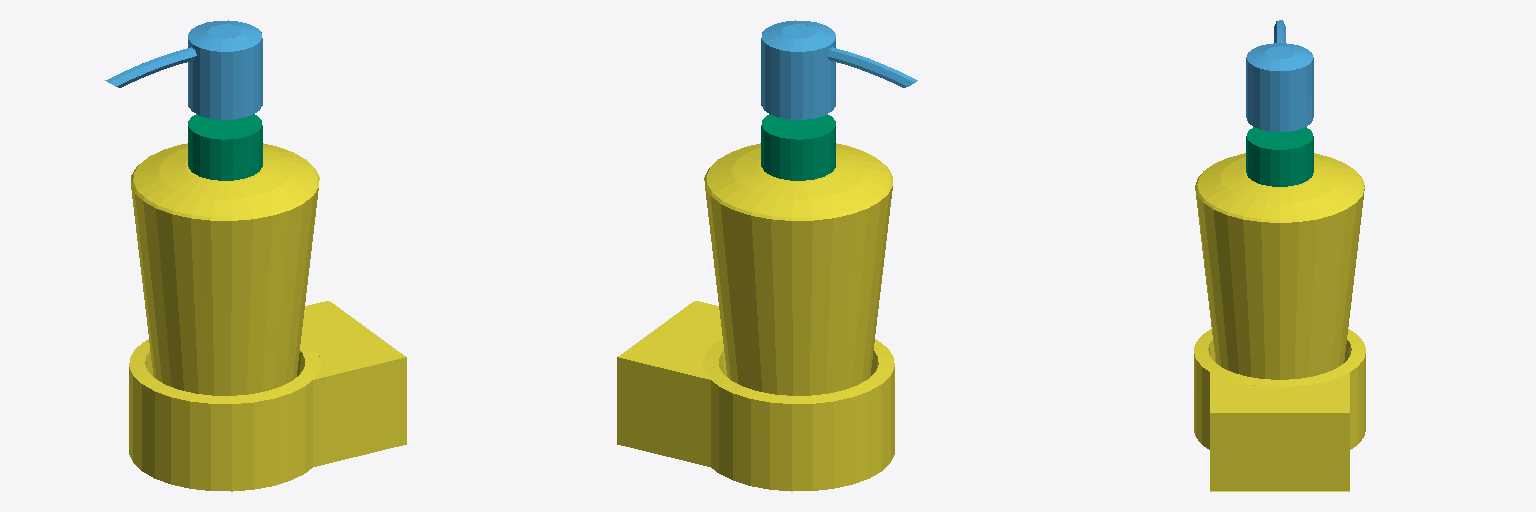
URDF robot description (partnet_e6676d26-1fb8-4e3b-a013-5a1d52decc9b):
<?xml version="1.0" ?>
<robot name="partnet_e6676d26-1fb8-4e3b-a013-5a1d52decc9b">
	<link name="base"/>
	<link name="link_0">
		<visual name="pressing_lid-1">
			<origin xyz="0.0023859999999999992 0 -0.054397"/>
			<geometry>
				<mesh filename="textured_objs/original-3.obj"/>
			</geometry>
		</visual>
		<visual name="pressing_lid-1">
			<origin xyz="0.0023859999999999992 0 -0.054397"/>
			<geometry>
				<mesh filename="textured_objs/original-4.obj"/>
			</geometry>
		</visual>
		<collision>
			<origin xyz="0.0023859999999999992 0 -0.054397"/>
			<geometry>
				<mesh filename="textured_objs/original-3.obj"/>
			</geometry>
		</collision>
		<collision>
			<origin xyz="0.0023859999999999992 0 -0.054397"/>
			<geometry>
				<mesh filename="textured_objs/original-4.obj"/>
			</geometry>
		</collision>
	</link>
	<joint name="joint_0" type="continuous">
		<origin xyz="0.0 0 0.0"/>
		<axis xyz="0 1 0"/>
		<child link="link_0"/>
		<parent link="link_0_helper"/>
	</joint>
	<link name="link_1">
		<visual name="head-3">
			<origin xyz="0.002386499999999986 0 -0.054397500000000015"/>
			<geometry>
				<mesh filename="textured_objs/original-6.obj"/>
			</geometry>
		</visual>
		<visual name="head-3">
			<origin xyz="0.002386499999999986 0 -0.054397500000000015"/>
			<geometry>
				<mesh filename="textured_objs/original-5.obj"/>
			</geometry>
		</visual>
		<collision>
			<origin xyz="0.002386499999999986 0 -0.054397500000000015"/>
			<geometry>
				<mesh filename="textured_objs/original-6.obj"/>
			</geometry>
		</collision>
		<collision>
			<origin xyz="0.002386499999999986 0 -0.054397500000000015"/>
			<geometry>
				<mesh filename="textured_objs/original-5.obj"/>
			</geometry>
		</collision>
	</link>
	<joint name="joint_1" type="continuous">
		<origin xyz="0.0 0 0.0"/>
		<axis xyz="0 -1 0"/>
		<child link="link_1"/>
		<parent link="link_1_helper"/>
	</joint>
	<link name="link_2">
		<visual name="base_body-4">
			<origin xyz="0 0 0"/>
			<geometry>
				<mesh filename="textured_objs/original-8.obj"/>
			</geometry>
		</visual>
		<visual name="base_body-4">
			<origin xyz="0 0 0"/>
			<geometry>
				<mesh filename="textured_objs/original-9.obj"/>
			</geometry>
		</visual>
		<visual name="base_body-4">
			<origin xyz="0 0 0"/>
			<geometry>
				<mesh filename="textured_objs/original-7.obj"/>
			</geometry>
		</visual>
		<visual name="base_body-4">
			<origin xyz="0 0 0"/>
			<geometry>
				<mesh filename="textured_objs/original-1.obj"/>
			</geometry>
		</visual>
		<visual name="base_body-4">
			<origin xyz="0 0 0"/>
			<geometry>
				<mesh filename="textured_objs/original-10.obj"/>
			</geometry>
		</visual>
		<collision>
			<origin xyz="0 0 0"/>
			<geometry>
				<mesh filename="textured_objs/original-8.obj"/>
			</geometry>
		</collision>
		<collision>
			<origin xyz="0 0 0"/>
			<geometry>
				<mesh filename="textured_objs/original-9.obj"/>
			</geometry>
		</collision>
		<collision>
			<origin xyz="0 0 0"/>
			<geometry>
				<mesh filename="textured_objs/original-7.obj"/>
			</geometry>
		</collision>
		<collision>
			<origin xyz="0 0 0"/>
			<geometry>
				<mesh filename="textured_objs/original-1.obj"/>
			</geometry>
		</collision>
		<collision>
			<origin xyz="0 0 0"/>
			<geometry>
				<mesh filename="textured_objs/original-10.obj"/>
			</geometry>
		</collision>
	</link>
	<joint name="joint_2" type="fixed">
		<origin rpy="1.570796326794897 0 -1.570796326794897" xyz="0 0 0"/>
		<child link="link_2"/>
		<parent link="base"/>
	</joint>
	<link name="link_0_helper"/>
	<joint name="joint_3" type="prismatic">
		<origin xyz="4.999999999866223e-07 0 -5.000000000143778e-07"/>
		<axis xyz="0 -1 0"/>
		<child link="link_0_helper"/>
		<parent link="link_1"/>
		<limit lower="0" upper="0.07"/>
	</joint>
	<link name="link_1_helper"/>
	<joint name="joint_4" type="prismatic">
		<origin xyz="-0.002386499999999986 0 0.054397500000000015"/>
		<axis xyz="0 1 0"/>
		<child link="link_1_helper"/>
		<parent link="link_2"/>
		<limit lower="0" upper="0.036"/>
	</joint>
</robot>

--- Facts derived from the render (not from the file) ---
3 views of the same robot in one strip: view 1: azimuth 30°, elevation 25°; view 2: azimuth 150°, elevation 25°; view 3: azimuth 270°, elevation 25° (orthographic).
Model partnet_e6676d26-1fb8-4e3b-a013-5a1d52decc9b with 6 links and 5 joints (2 continuous, 2 prismatic, 1 fixed), rooted at base, posed every joint at zero.
Links seen in each view (by area): view 1: link_2, link_0, link_1; view 2: link_2, link_0, link_1; view 3: link_2, link_0, link_1.
Link boxes in pixels (x1=…): link_2: x1=129, y1=143, x2=406, y2=491; link_0: x1=105, y1=20, x2=262, y2=119; link_1: x1=188, y1=114, x2=262, y2=180; link_2: x1=617, y1=143, x2=894, y2=491; link_0: x1=761, y1=20, x2=917, y2=119; link_1: x1=761, y1=114, x2=835, y2=180; link_2: x1=1194, y1=153, x2=1365, y2=491; link_0: x1=1246, y1=20, x2=1313, y2=131; link_1: x1=1246, y1=127, x2=1313, y2=186.
Bounding box of the posed robot: 0.9583 × 0.6134 × 1.47 m (x, y, z).
7 mesh visuals loaded from 9 distinct referenced files (7 OBJ); not drawn: 2 (reference not matched to a file when rendering).
